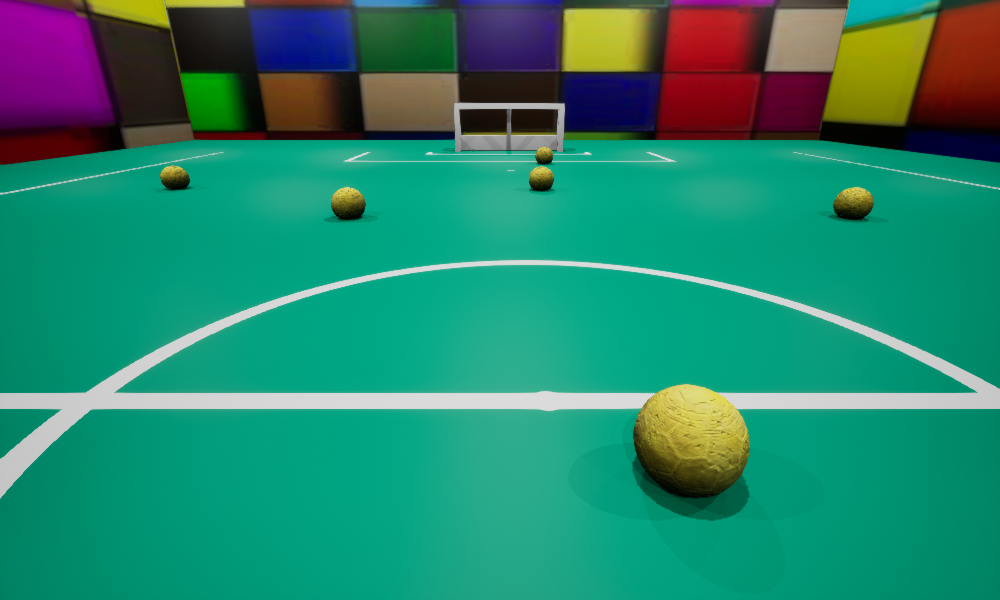b: (633, 384, 749, 496), (833, 187, 873, 218), (331, 187, 365, 218), (160, 165, 189, 188), (529, 166, 553, 190), (535, 147, 552, 163)
g: (454, 103, 564, 151)
